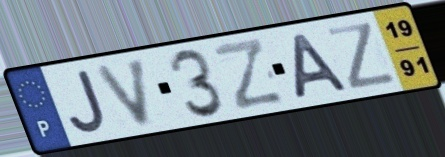3: (168, 47, 226, 121)
A: (291, 31, 353, 102)
J: (65, 67, 109, 135)
V: (92, 55, 153, 130)
Z: (208, 35, 288, 113), (323, 19, 401, 93)
